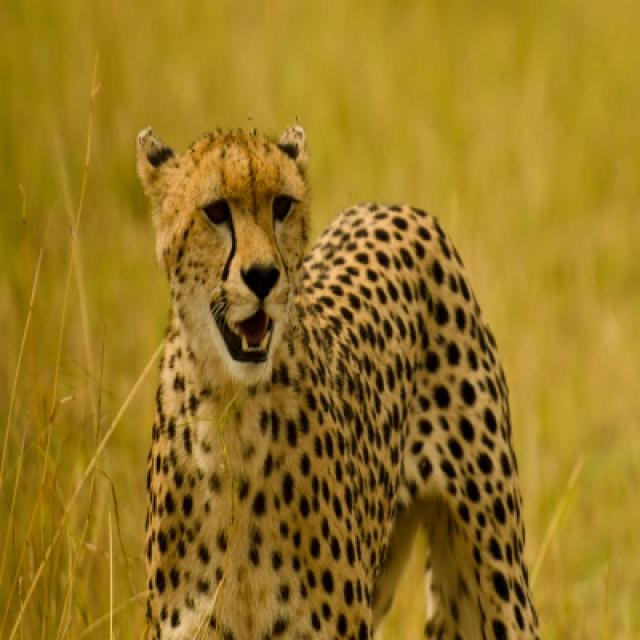Cheetah: (134, 125, 542, 638)
